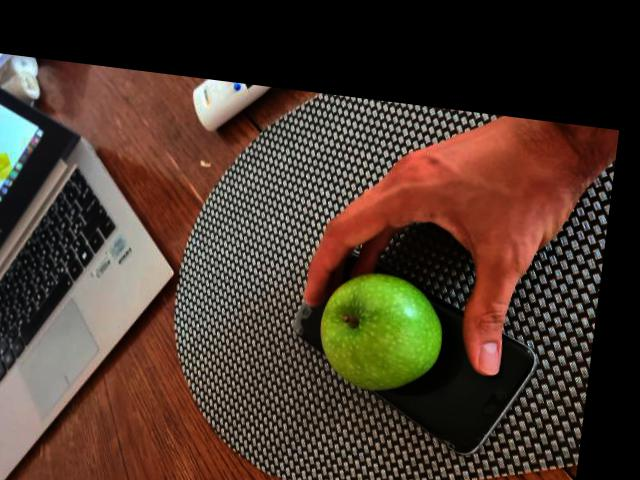apple: (317, 274, 444, 398)
